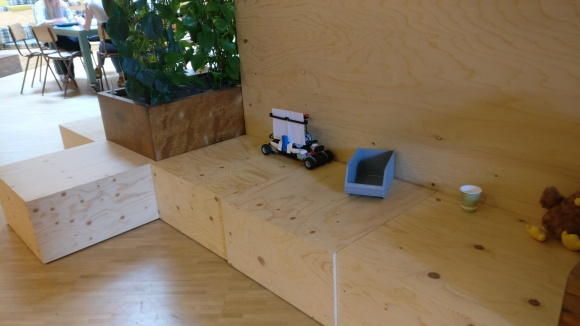car: (261, 105, 335, 171)
cup: (457, 182, 483, 214)
tray: (343, 144, 397, 200)
